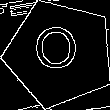O_S: (35, 27, 84, 81)
